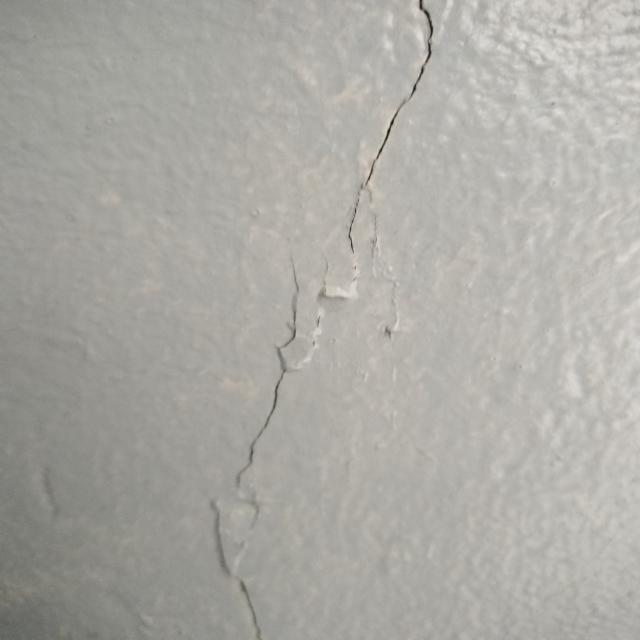Crack: (201, 6, 438, 640)
